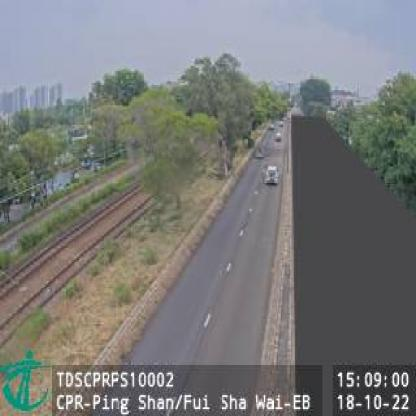Car: (265, 163, 280, 186), (253, 146, 266, 162)
